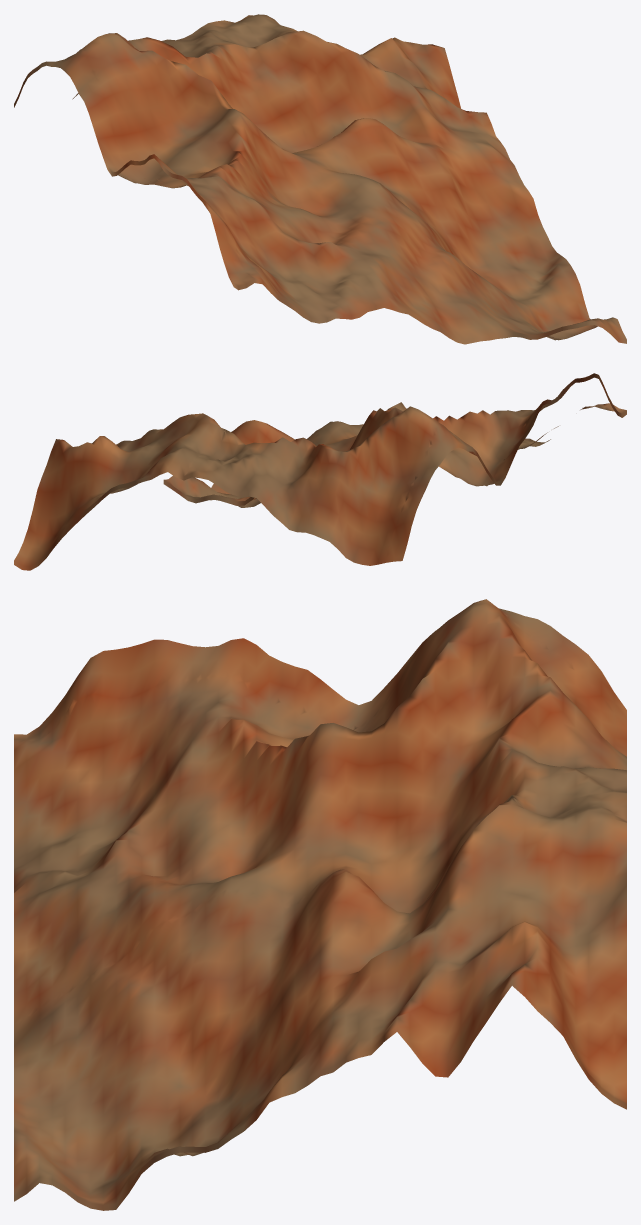
Rendered from terrain-060.glb.
3 renders of one model, top to bottom at view 1: azimuth 30°, elevation 25°; view 2: azimuth 150°, elevation 25°; view 3: azimuth 270°, elevation 25°, orthographic. The views are drawn at different scales.
Visible parts, largest first — view 1: terrain-060; view 2: terrain-060; view 3: terrain-060.
Boxes of the visible parts, left/top/right/bottom form: terrain-060: left=14, top=14, right=626, bottom=344; terrain-060: left=14, top=373, right=626, bottom=570; terrain-060: left=14, top=599, right=626, bottom=1210.
Size of the model in its own units: 384 by 260 by 384.
